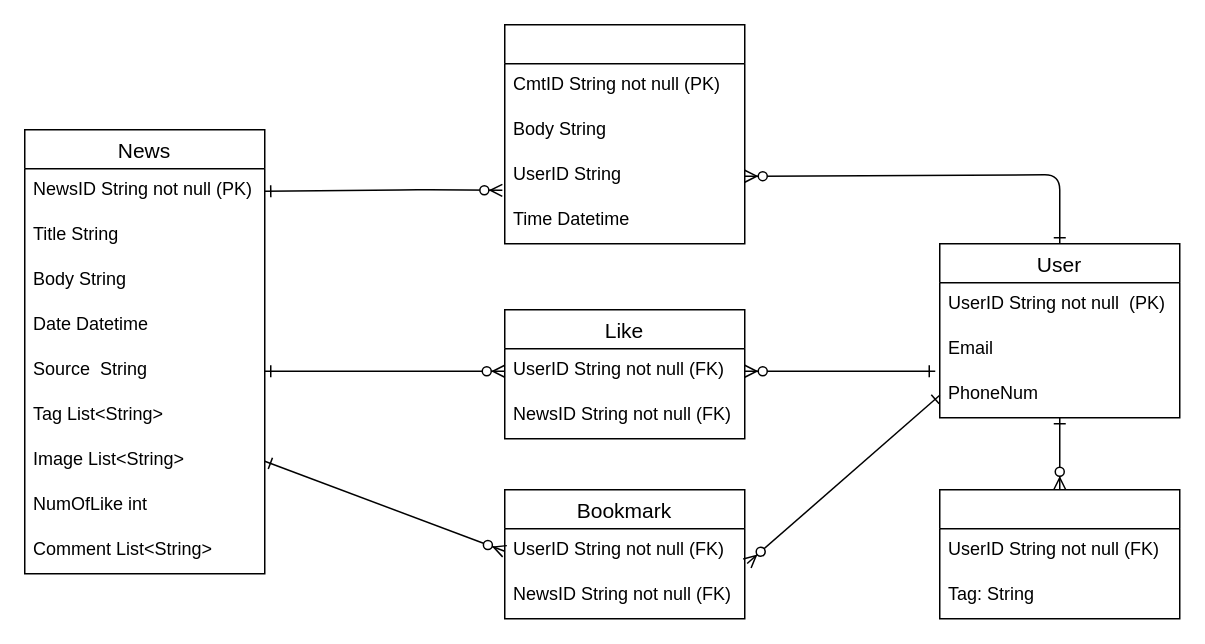
Some shapes in this 1205 by 644 pixel diagram are drawn without their labels. The shapes that lost their labels are listed below. From the top down, each one's box as (x1, y1, x2, y2) in pixels, then its label:
(503, 23, 745, 244): Comment
(938, 488, 1180, 619): Favorite
